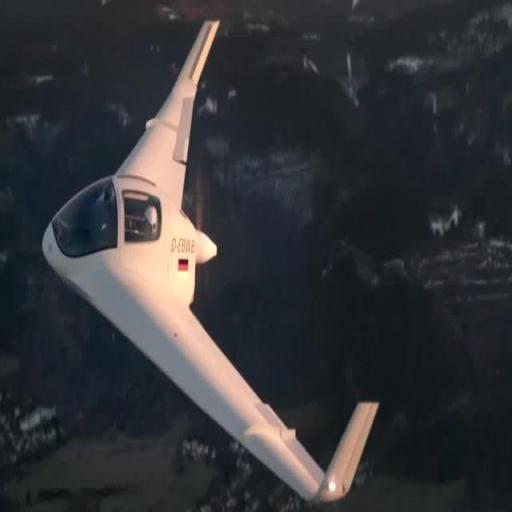uav: (38, 14, 382, 505)
